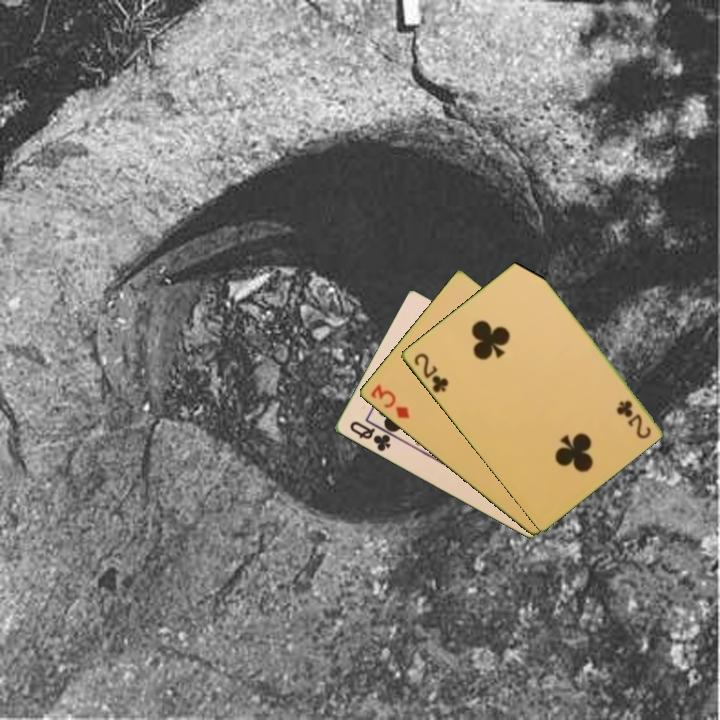2c: (410, 349, 451, 396), (614, 396, 653, 442)
3d: (366, 381, 412, 422)
Qc: (346, 417, 393, 455)
